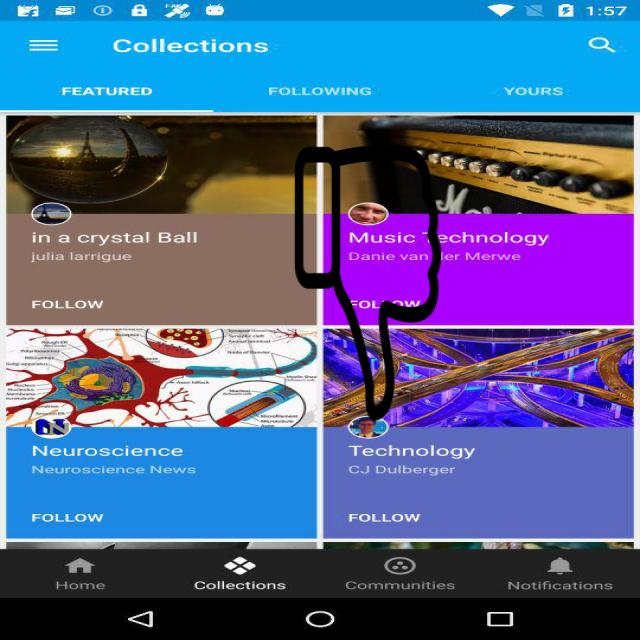obstruction: (293, 144, 443, 420)
